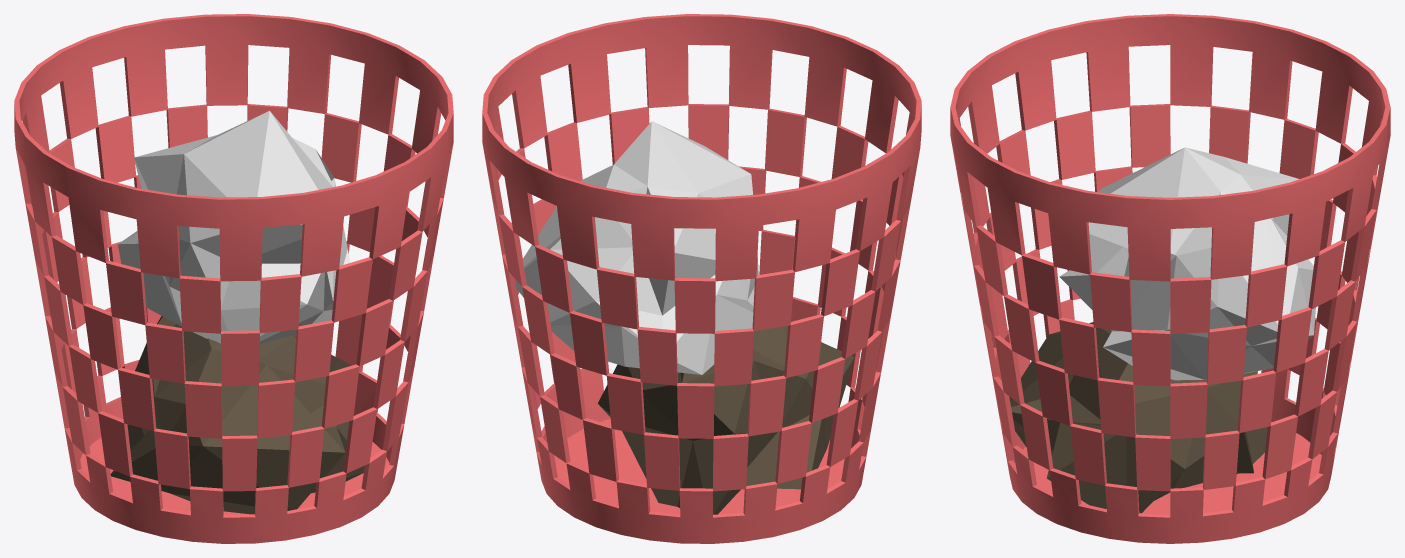
File: trashcan.fbx
3 renders of one model, left to right at view 1: azimuth 30°, elevation 25°; view 2: azimuth 150°, elevation 25°; view 3: azimuth 270°, elevation 25°, orthographic.
Visible parts, largest first — view 1: basurero, Icosphere.003, Icosphere.002; view 2: basurero, Icosphere.003, Icosphere.002; view 3: basurero, Icosphere.003, Icosphere.002.
Part boxes in pixels (<box>): basurero: <box>14,14,453,543</box>; Icosphere.003: <box>118,110,350,343</box>; Icosphere.002: <box>110,316,364,514</box>; basurero: <box>482,14,921,543</box>; Icosphere.003: <box>515,121,758,374</box>; Icosphere.002: <box>598,325,854,514</box>; basurero: <box>950,14,1390,543</box>; Icosphere.003: <box>1059,147,1315,380</box>; Icosphere.002: <box>1009,322,1267,513</box>.
Bounding box in the file's own units: 77.25 × 78.41 × 77.25.
